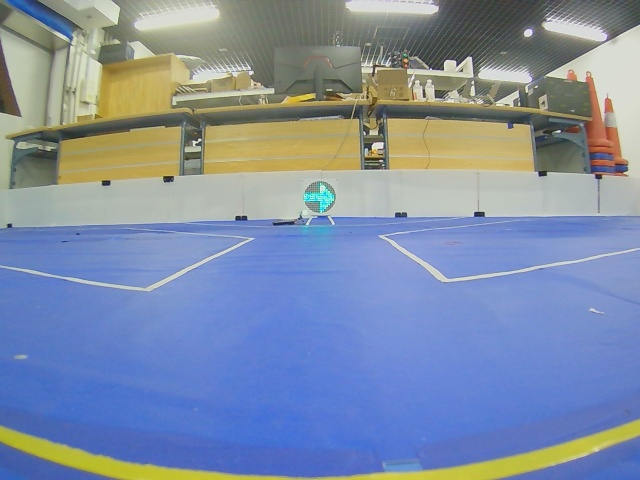right_green: (303, 181, 336, 214)
